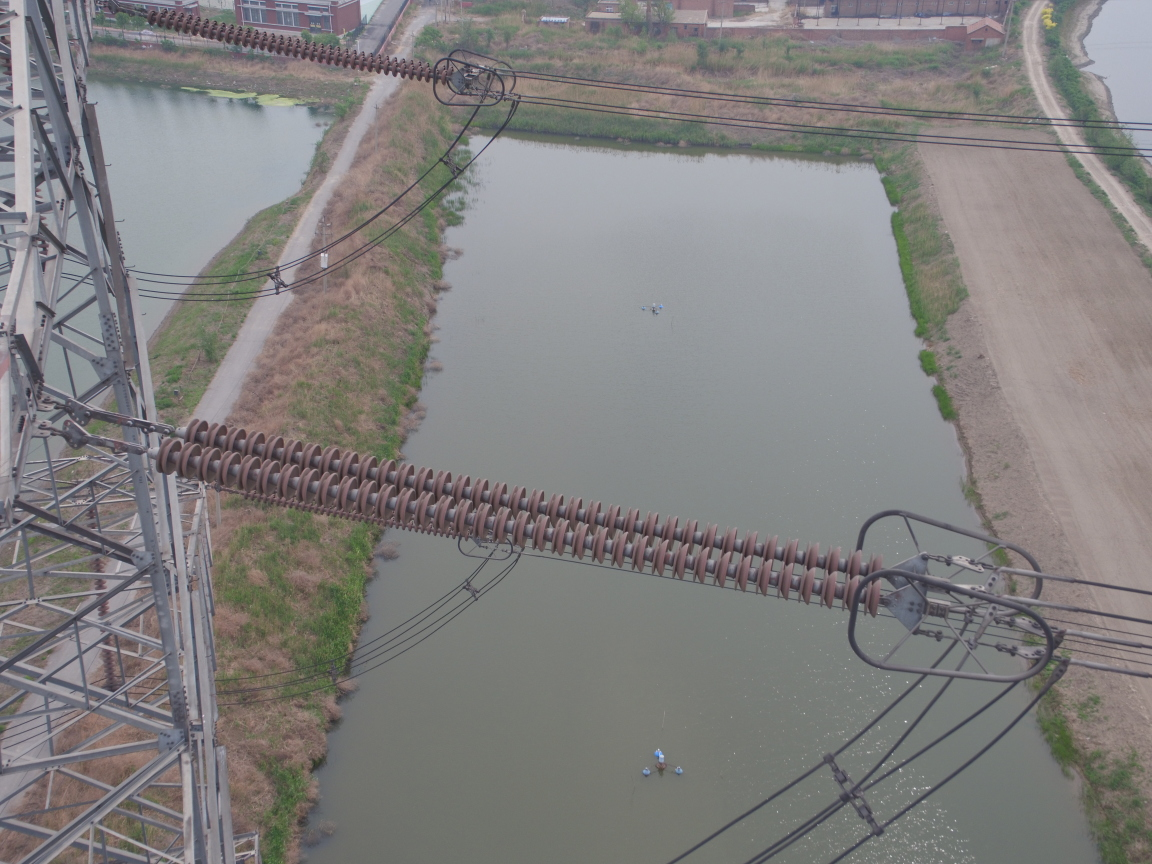insulator: (124, 412, 903, 624), (125, 1, 457, 89)
